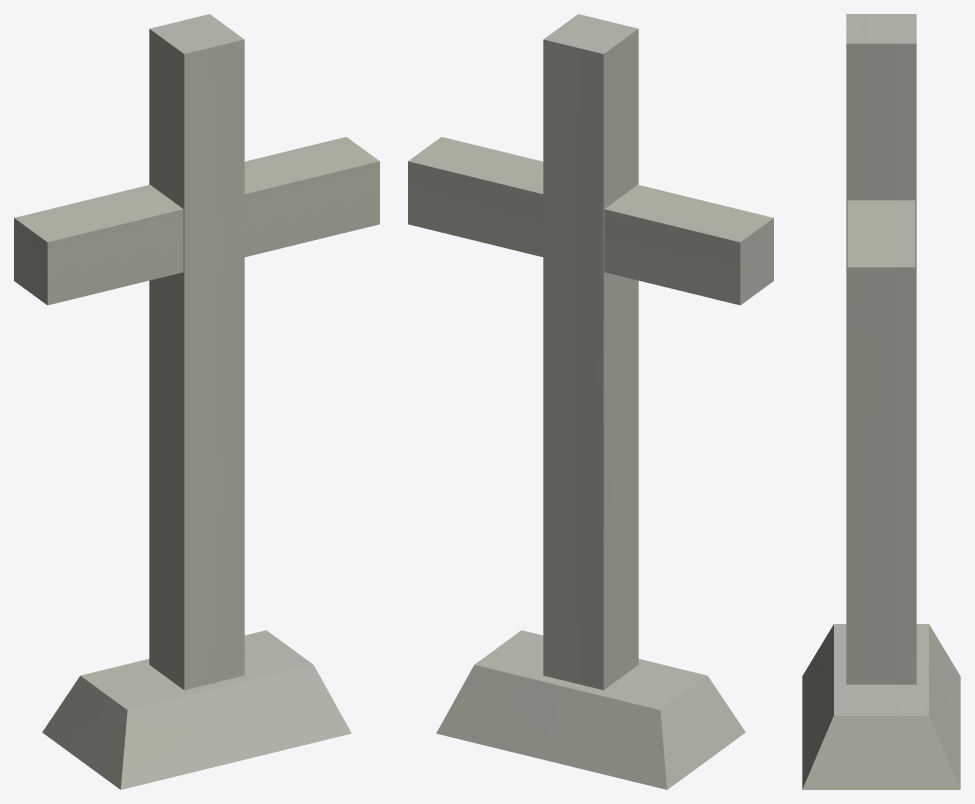
The model's file is mogila3.fbx.
3 renders of one model, left to right at view 1: azimuth 30°, elevation 25°; view 2: azimuth 150°, elevation 25°; view 3: azimuth 270°, elevation 25°, orthographic.
Parts seen in each view (by area): view 1: Cube.087; view 2: Cube.087; view 3: Cube.087.
Part boxes in pixels (x1,y1,x2,y2): Cube.087: (14, 14, 379, 789); Cube.087: (408, 14, 773, 789); Cube.087: (802, 14, 960, 789).
Size of the model in its own units: 187 by 376 by 76.64.
